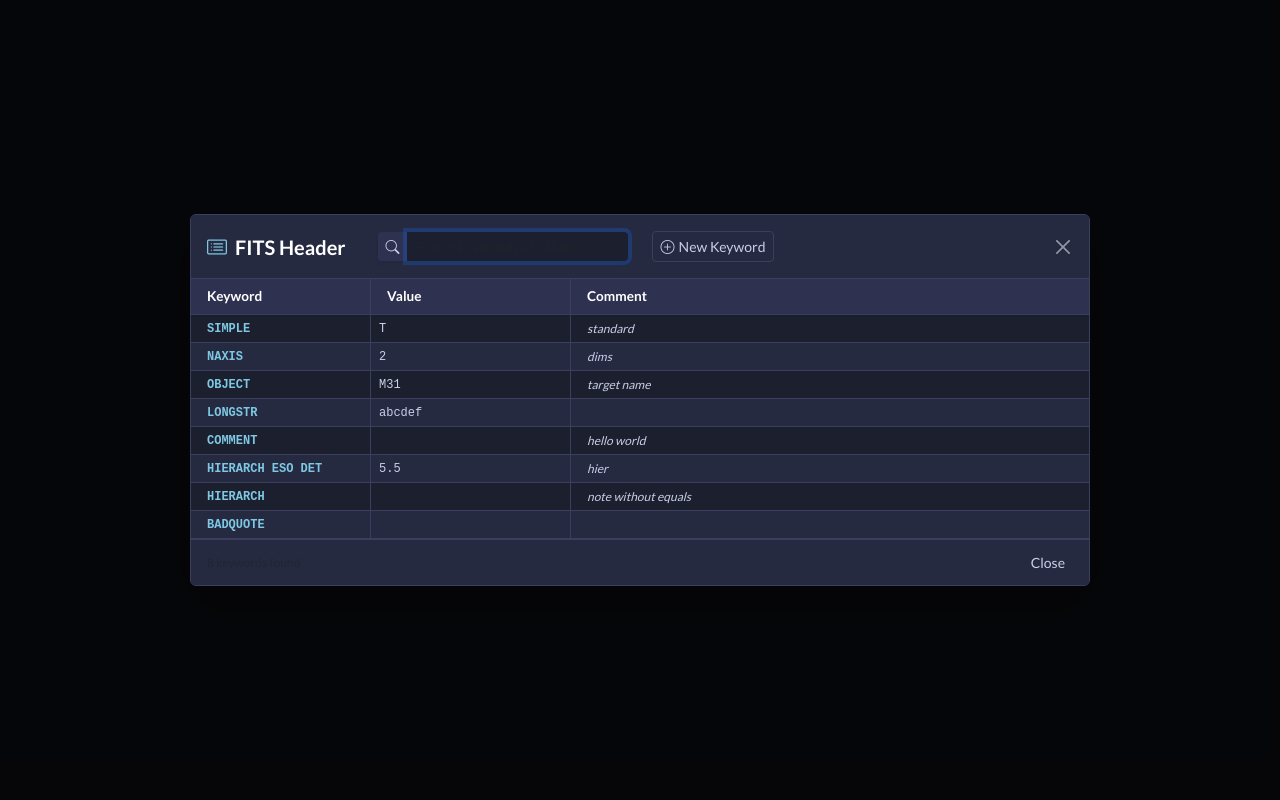
FitsHeaderModal › add keyword form › disables Add without a name
Click the button "New Keyword" at (713, 246), box [652, 231, 774, 262]
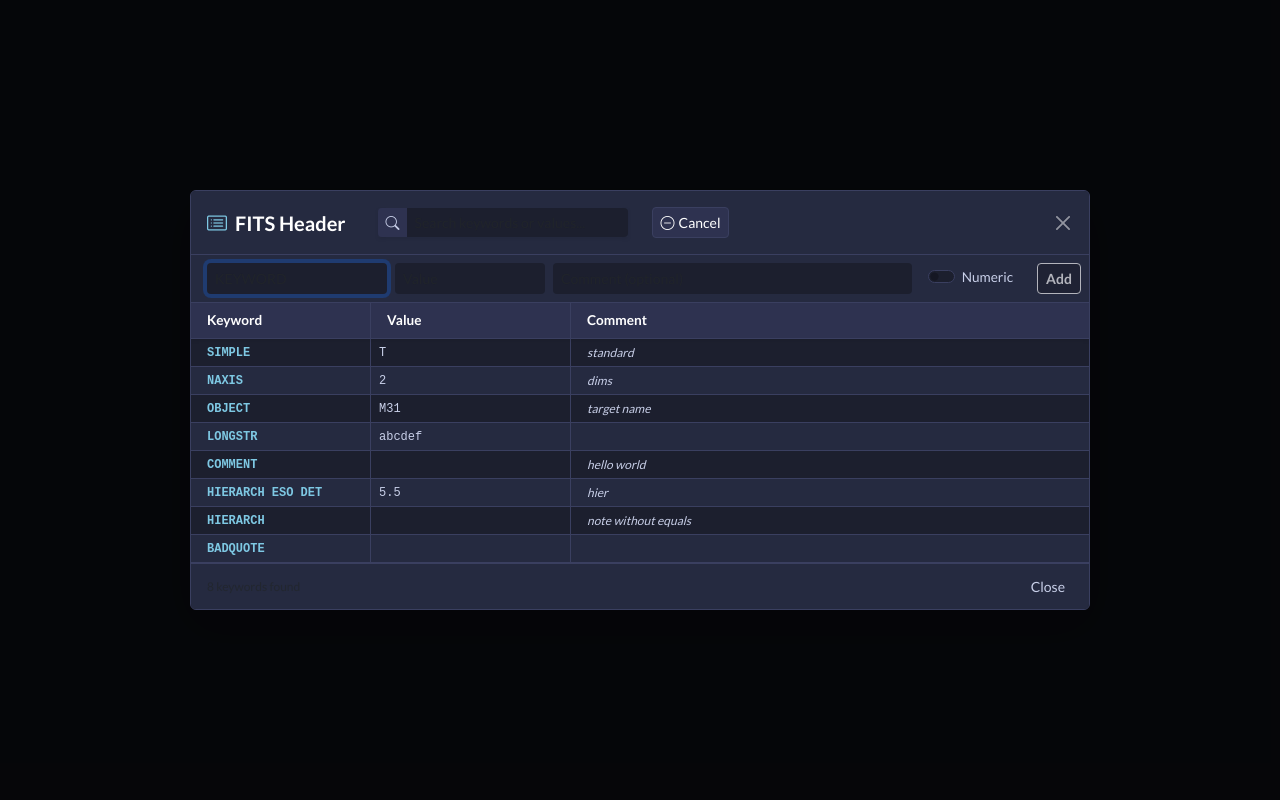
expect the button "Add" is disabled: met, box [1037, 263, 1081, 294]
